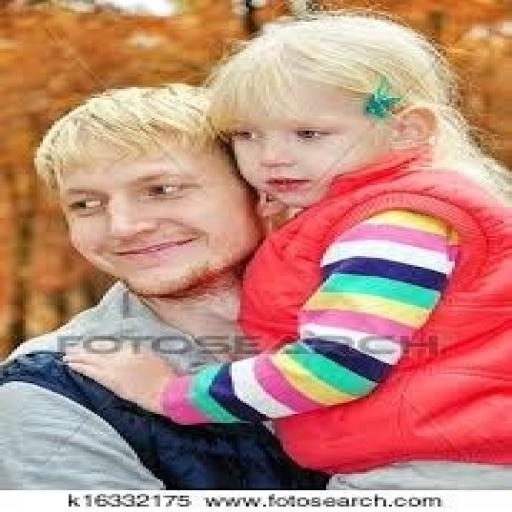hugging: (0, 7, 509, 490)
